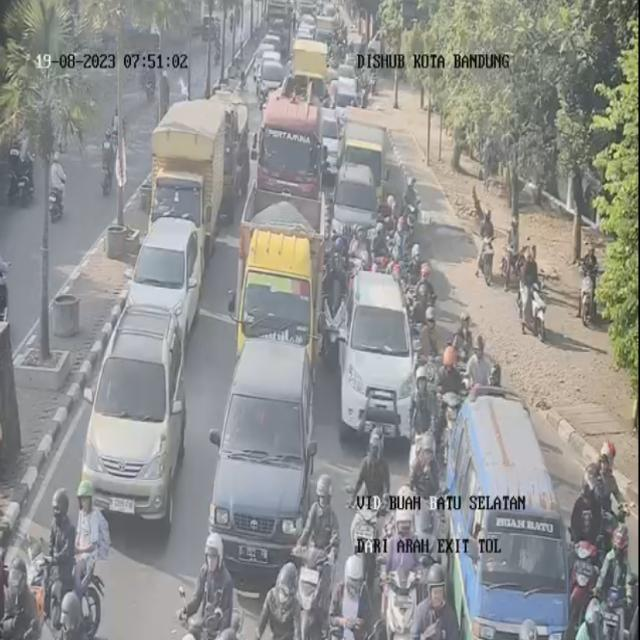cars: (213, 327, 318, 572), (74, 296, 182, 528), (454, 494, 574, 640), (233, 216, 319, 391), (341, 268, 416, 442), (132, 220, 204, 338), (334, 162, 376, 258), (257, 51, 284, 101)
motorcycle: (56, 466, 106, 634), (304, 472, 346, 638), (185, 519, 235, 638), (379, 500, 420, 640), (353, 431, 392, 571), (0, 497, 37, 640), (256, 560, 308, 640), (593, 443, 629, 556), (600, 524, 630, 638), (320, 249, 347, 361), (414, 573, 458, 640), (518, 244, 548, 336), (572, 468, 602, 554), (438, 344, 467, 426), (420, 311, 442, 400), (451, 316, 476, 394), (398, 170, 418, 242), (414, 261, 435, 329), (399, 233, 424, 289), (373, 185, 395, 246), (346, 222, 368, 280), (372, 218, 392, 278), (403, 167, 420, 216)
truck: (151, 95, 249, 256), (250, 94, 322, 223), (342, 111, 389, 187), (293, 33, 329, 72)
